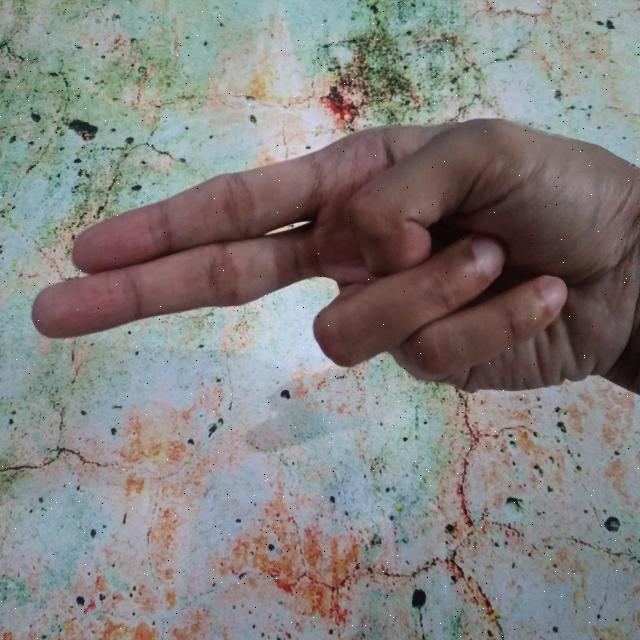H: (24, 107, 640, 400)
